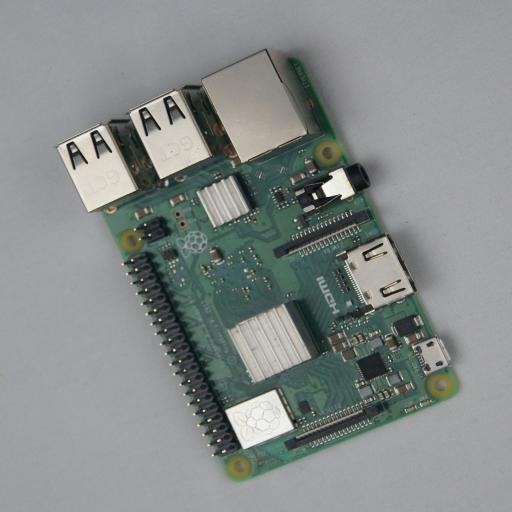Raspberry Pi 3 B-: (55, 48, 459, 478)
